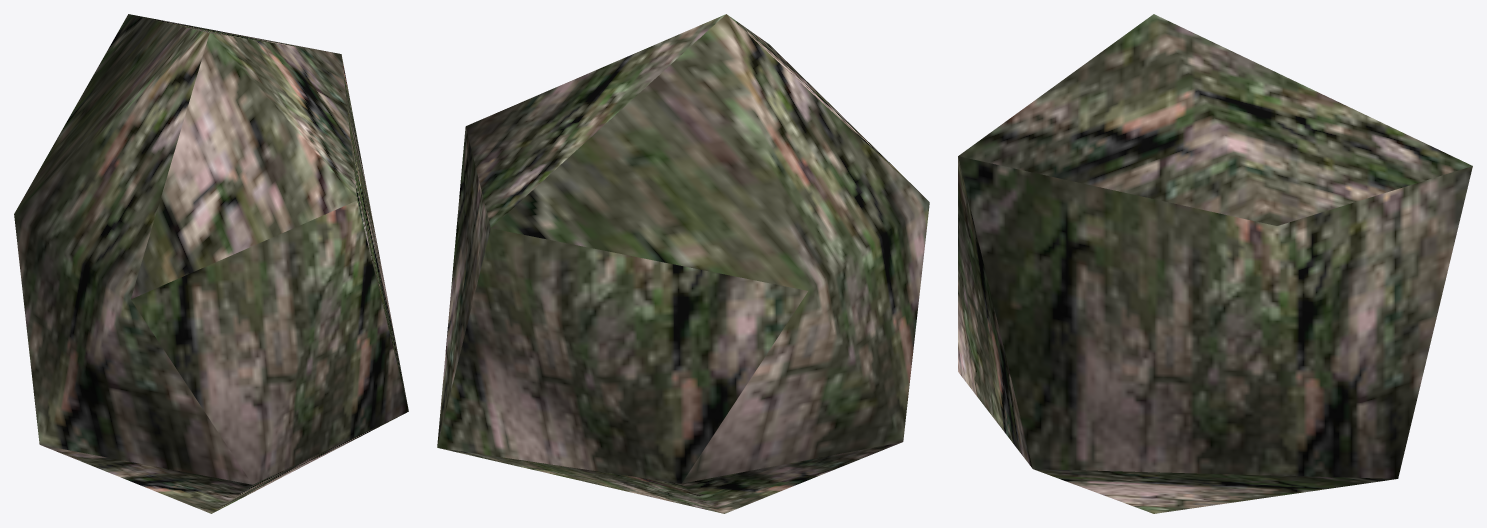
3 views of the same model, side by side, from view 1: azimuth 30°, elevation 25°; view 2: azimuth 150°, elevation 25°; view 3: azimuth 270°, elevation 25° (orthographic). The views are drawn at different scales.
Parts seen in each view (by area): view 1: Object34; view 2: Object34; view 3: Object34.
Part boxes in pixels (x1,y1,x2,y2): Object34: [14, 14, 408, 513]; Object34: [437, 14, 929, 513]; Object34: [958, 14, 1472, 513].
Bounding box in the file's own units: 57.1 × 72.65 × 67.93.
